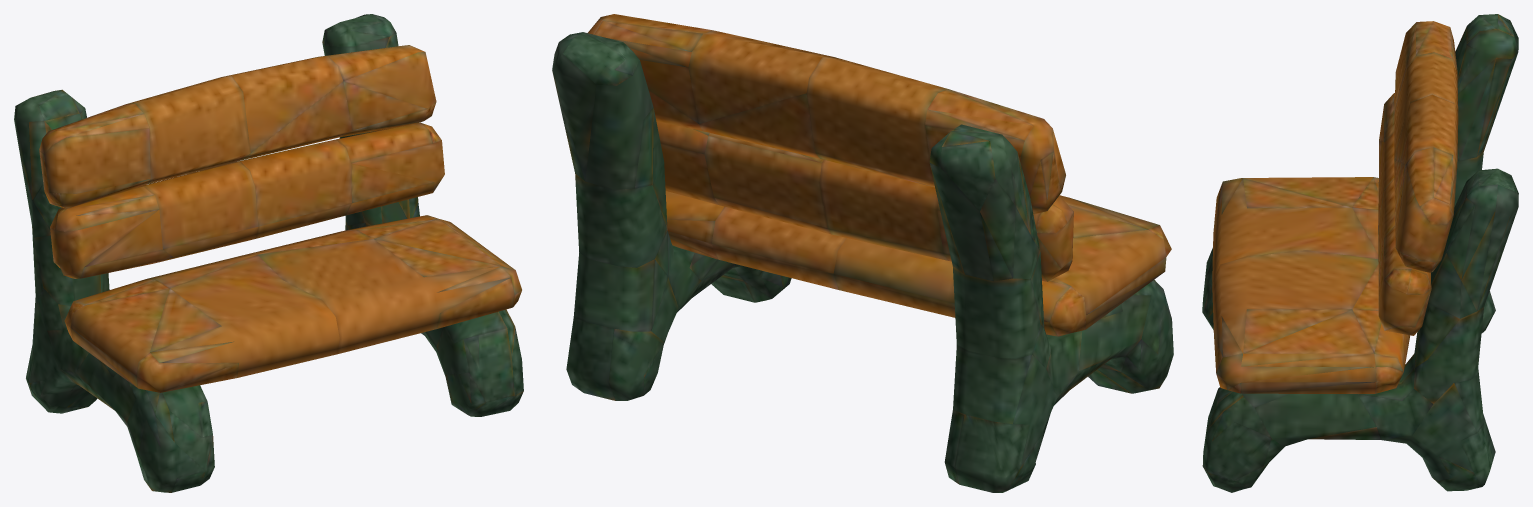
File: bench.glb
3 renders of one model, left to right at view 1: azimuth 30°, elevation 25°; view 2: azimuth 150°, elevation 25°; view 3: azimuth 270°, elevation 25°, orthographic. The views are drawn at different scales.
Parts seen in each view (by area): view 1: geometry_0; view 2: geometry_0; view 3: geometry_0.
Part boxes in pixels (<box>): geometry_0: <box>14,14,523,492</box>; geometry_0: <box>552,14,1173,492</box>; geometry_0: <box>1202,14,1518,492</box>.
Size of the model in its own units: 1 by 0.7617 by 0.6995.
1 material, 1 textured.
